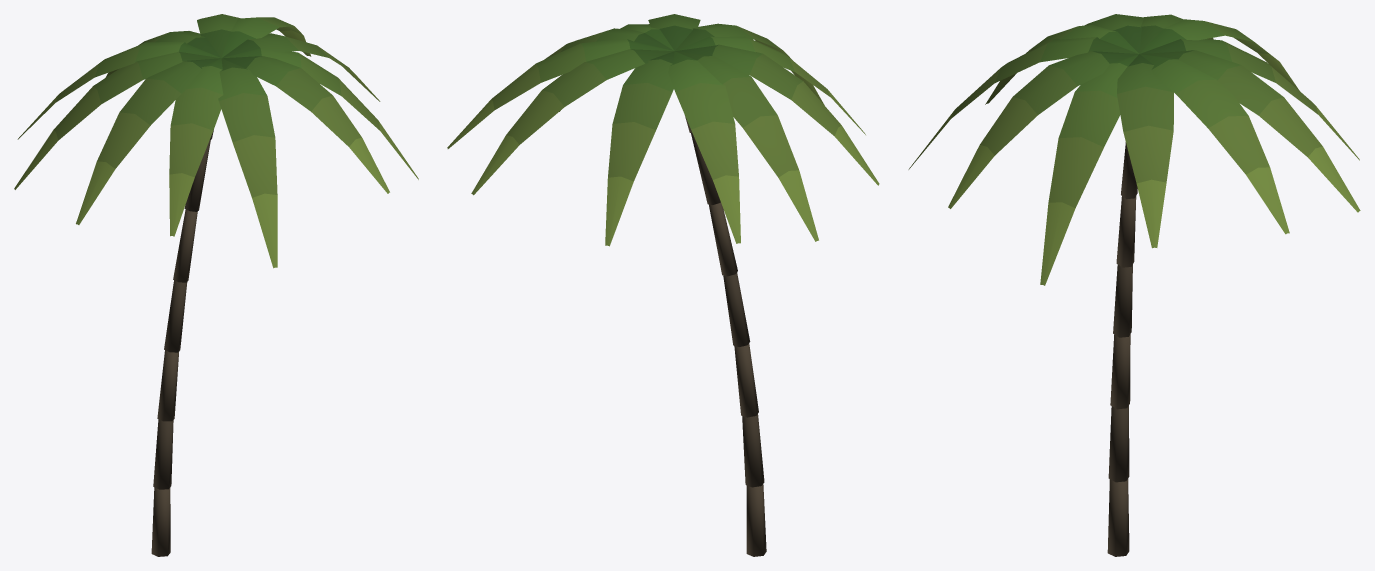
File: env_palm_a.glb
3 views of the same model, side by side, from view 1: azimuth 30°, elevation 25°; view 2: azimuth 150°, elevation 25°; view 3: azimuth 270°, elevation 25° (orthographic). The views are drawn at different scales.
Visible parts, largest first — view 1: env_palm_a; view 2: env_palm_a; view 3: env_palm_a.
Boxes of the visible parts, <box> form: env_palm_a: <box>14,14,418,556</box>; env_palm_a: <box>447,14,879,556</box>; env_palm_a: <box>908,14,1360,556</box>.
Size of the model in its own units: 9.93 by 13.49 by 10.08.
